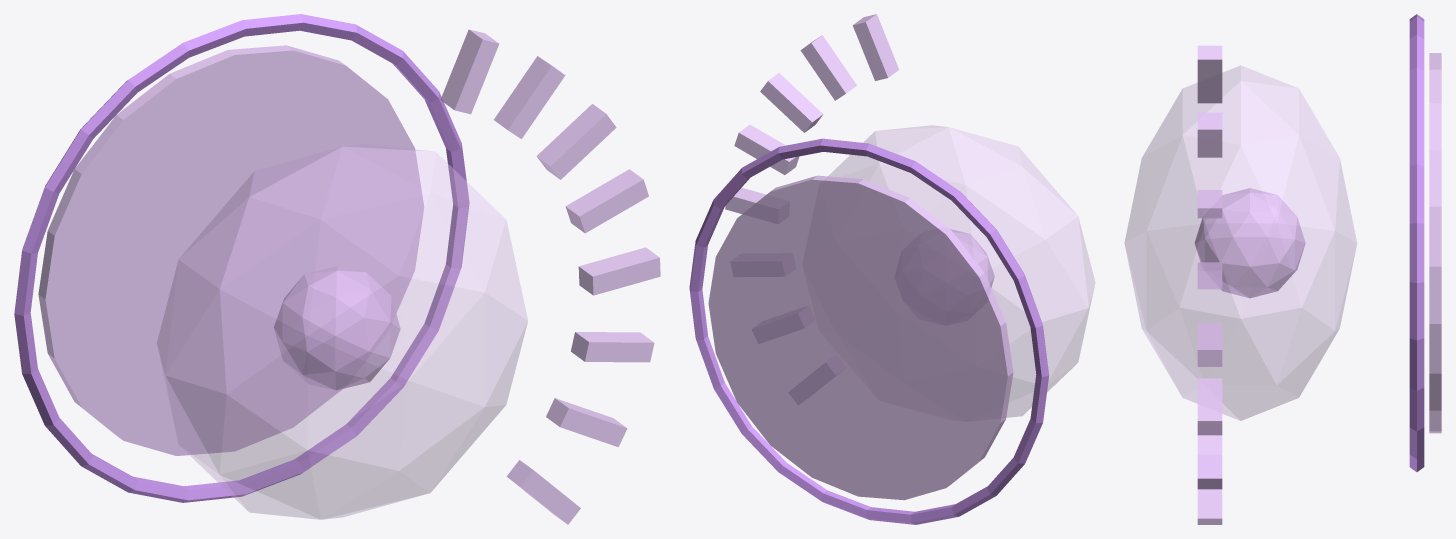
Rendered from 01_class_special_attack_vfx.glb.
3 renders of one model, left to right at view 1: azimuth 30°, elevation 25°; view 2: azimuth 150°, elevation 25°; view 3: azimuth 270°, elevation 25°, orthographic. The views are drawn at different scales.
Visible parts, largest first — view 1: ability_cast_disc, stasis_shell, ability_outer_ring, class_energy_core, attack_flow_arc_seg_7, attack_flow_arc_seg_5, attack_flow_arc_seg_6, attack_flow_arc_seg_4, attack_flow_arc_seg_3, attack_flow_arc_seg_2, attack_flow_arc_seg_1, attack_flow_arc_seg_0; view 2: ability_cast_disc, stasis_shell, ability_outer_ring, attack_flow_arc_seg_7, attack_flow_arc_seg_5, attack_flow_arc_seg_6, attack_flow_arc_seg_4, class_energy_core, attack_flow_arc_seg_3; view 3: stasis_shell, class_energy_core, ability_outer_ring, ability_cast_disc, attack_flow_arc_seg_7, attack_flow_arc_seg_2, attack_flow_arc_seg_1, attack_flow_arc_seg_6, attack_flow_arc_seg_3, attack_flow_arc_seg_0, attack_flow_arc_seg_5, attack_flow_arc_seg_4.
Part boxes in pixels (bbox=[...]): ability_cast_disc: bbox=[38, 45, 424, 455]; stasis_shell: bbox=[157, 144, 527, 519]; ability_outer_ring: bbox=[14, 14, 469, 502]; class_energy_core: bbox=[274, 266, 400, 390]; attack_flow_arc_seg_7: bbox=[440, 29, 499, 114]; attack_flow_arc_seg_5: bbox=[536, 104, 616, 179]; attack_flow_arc_seg_6: bbox=[494, 56, 565, 138]; attack_flow_arc_seg_4: bbox=[565, 169, 648, 233]; attack_flow_arc_seg_3: bbox=[578, 247, 660, 295]; attack_flow_arc_seg_2: bbox=[571, 332, 654, 362]; attack_flow_arc_seg_1: bbox=[546, 398, 627, 447]; attack_flow_arc_seg_0: bbox=[506, 460, 580, 524]; ability_cast_disc: bbox=[708, 175, 1013, 500]; stasis_shell: bbox=[828, 125, 1095, 417]; ability_outer_ring: bbox=[689, 138, 1049, 524]; attack_flow_arc_seg_7: bbox=[852, 14, 899, 80]; attack_flow_arc_seg_5: bbox=[760, 73, 823, 132]; attack_flow_arc_seg_6: bbox=[800, 35, 856, 100]; attack_flow_arc_seg_4: bbox=[734, 124, 799, 174]; class_energy_core: bbox=[950, 229, 994, 287]; attack_flow_arc_seg_3: bbox=[725, 187, 765, 213]; stasis_shell: bbox=[1124, 65, 1356, 420]; class_energy_core: bbox=[1194, 188, 1305, 298]; ability_outer_ring: bbox=[1409, 14, 1424, 471]; ability_cast_disc: bbox=[1429, 53, 1441, 433]; attack_flow_arc_seg_7: bbox=[1197, 45, 1222, 103]; attack_flow_arc_seg_2: bbox=[1197, 378, 1222, 435]; attack_flow_arc_seg_1: bbox=[1197, 435, 1222, 489]; attack_flow_arc_seg_6: bbox=[1197, 112, 1222, 157]; attack_flow_arc_seg_3: bbox=[1197, 323, 1222, 366]; attack_flow_arc_seg_0: bbox=[1197, 489, 1222, 524]; attack_flow_arc_seg_5: bbox=[1197, 190, 1222, 218]; attack_flow_arc_seg_4: bbox=[1197, 262, 1222, 289].
Bounding box in the file's own units: 1.71 × 1.63 × 1.03.
